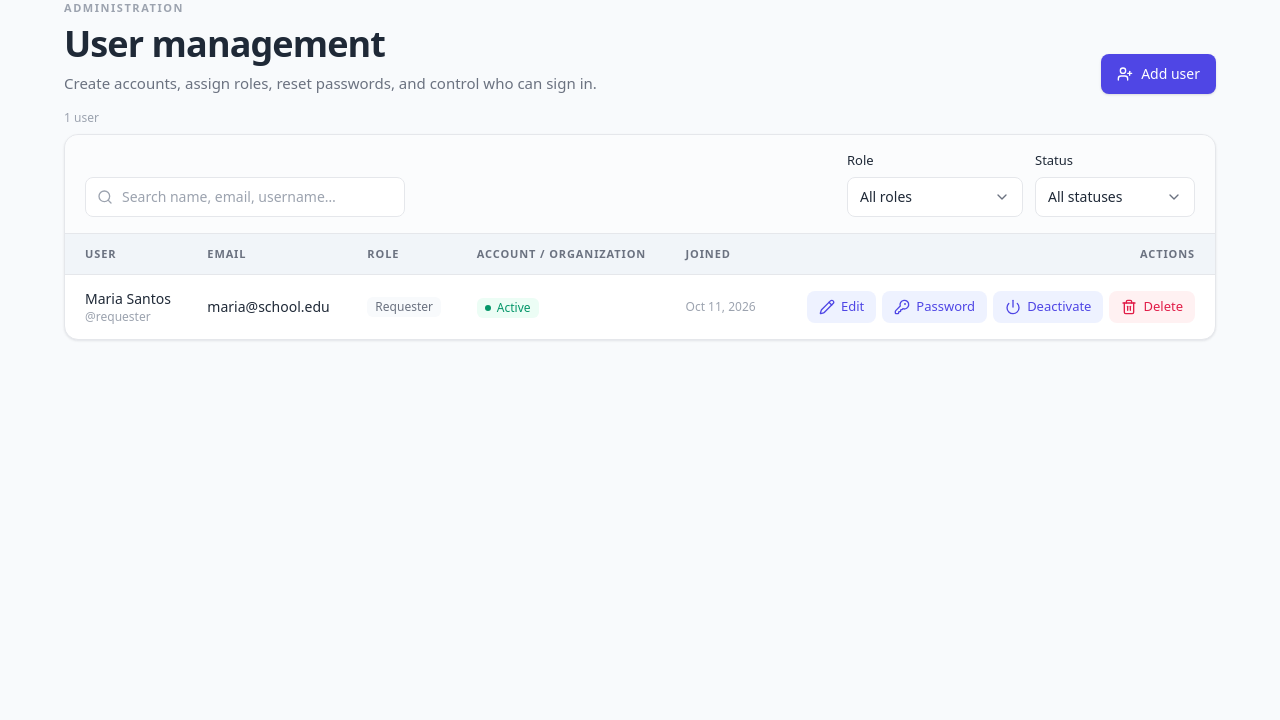
Test: UserManagementPage › reports a failed status change without changing the row
Expected: the text "Maria Santos" is shown, left=85, top=289, right=175, bottom=309
Click the button with aria-label "Deactivate Maria Santos": (1048, 307) left=993, top=291, right=1103, bottom=323
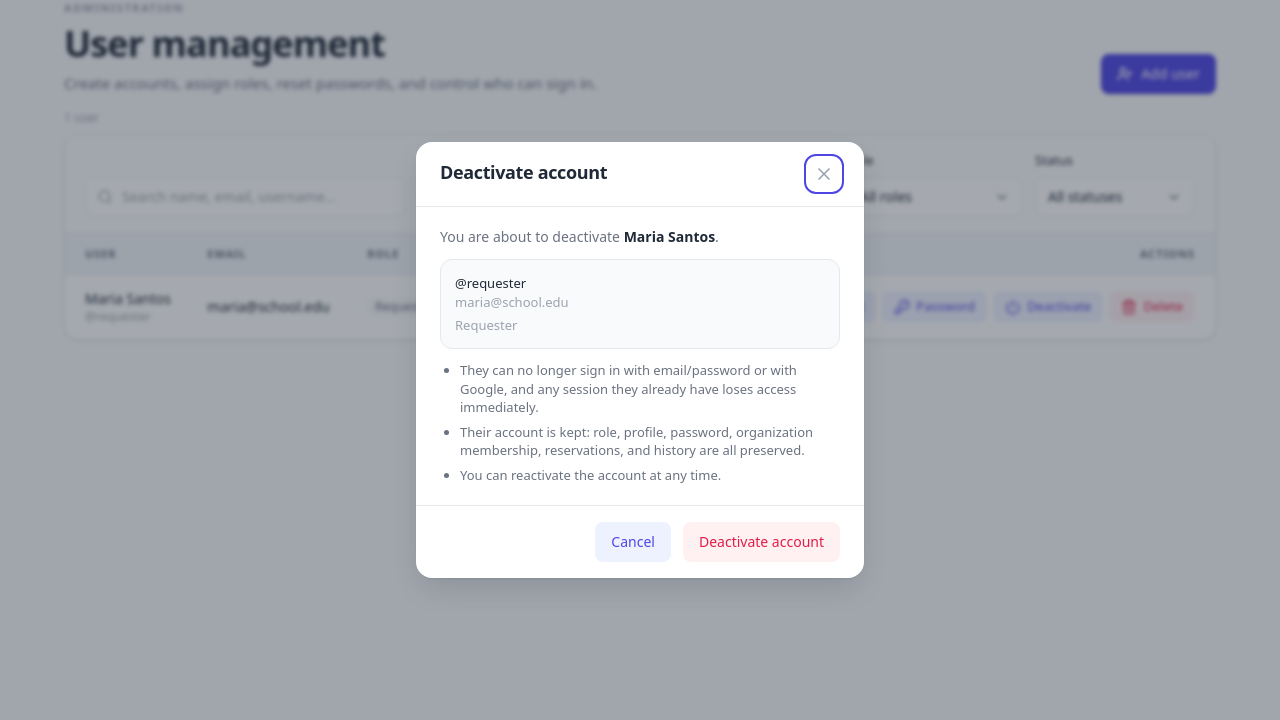
Click the button "Deactivate account": (762, 542) left=683, top=522, right=840, bottom=562
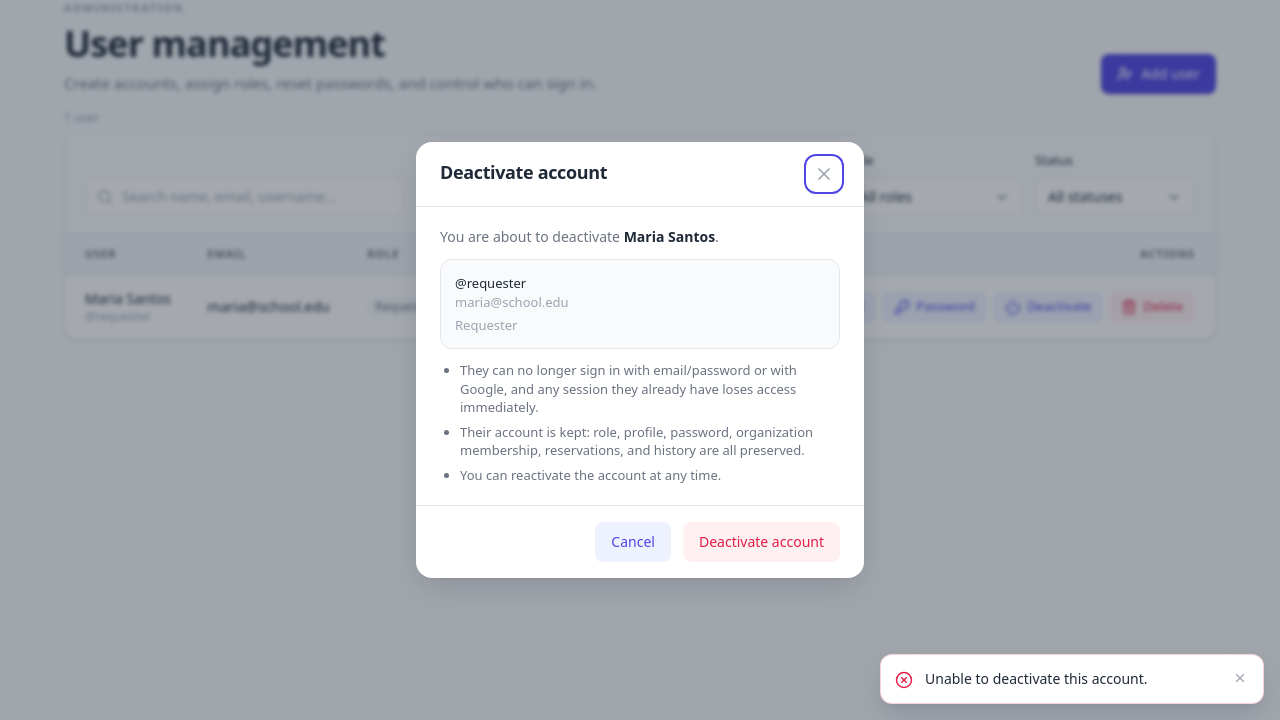
Result: the dialog is shown
Result: the text "Unable to deactivate this account." is shown at left=925, top=669, right=1148, bottom=688
